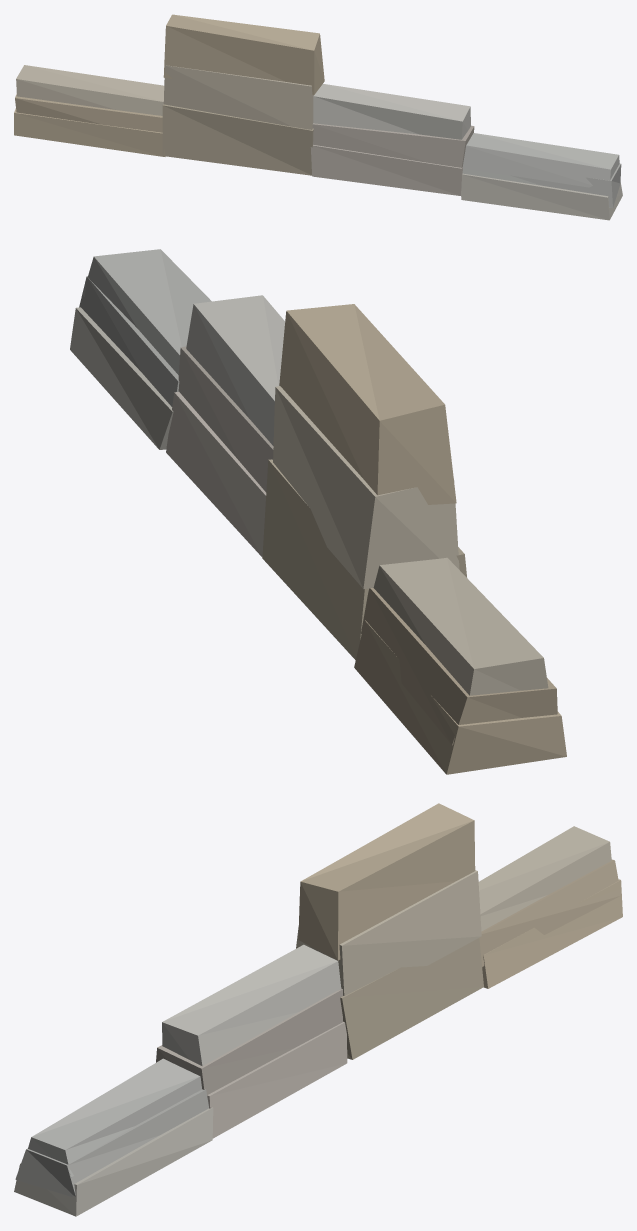
Rendered from farm_-2_4_mid.glb.
3 renders of one model, top to bottom at view 1: azimuth 30°, elevation 25°; view 2: azimuth 150°, elevation 25°; view 3: azimuth 270°, elevation 25°, orthographic. The views are drawn at different scales.
Visible parts, largest first — view 1: geometry_0; view 2: geometry_0; view 3: geometry_0.
Part boxes in pixels (x1,y1,x2,y2): geometry_0: [14, 14, 622, 220]; geometry_0: [70, 249, 566, 774]; geometry_0: [14, 803, 622, 1216].
Bounding box in the file's own units: 5.13 × 1.71 × 4.69.
